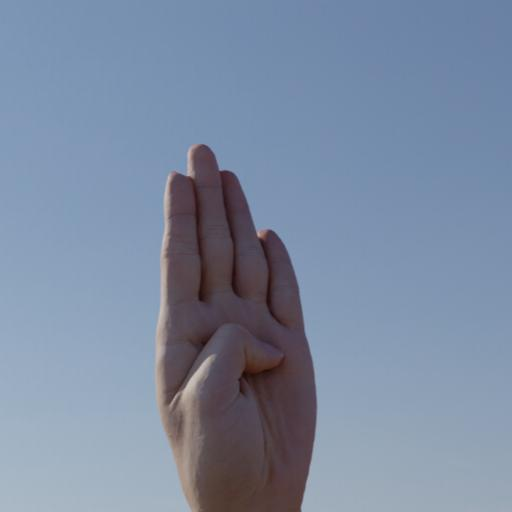B: (150, 141, 323, 512)
